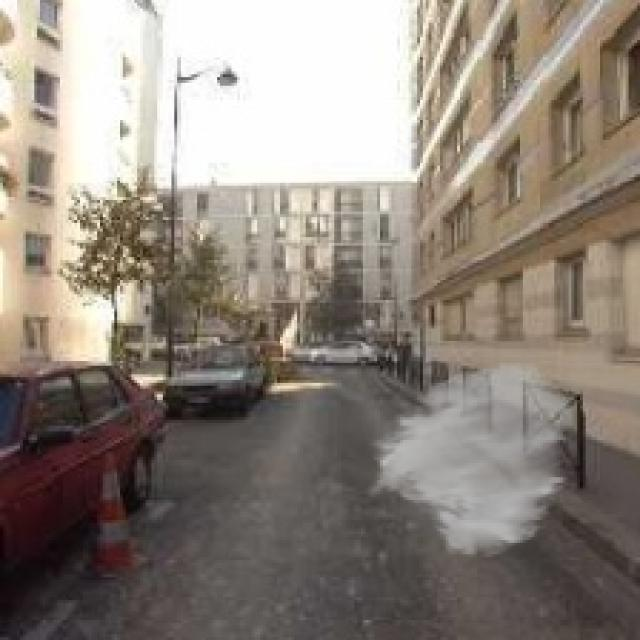smoke: (363, 360, 577, 560)
